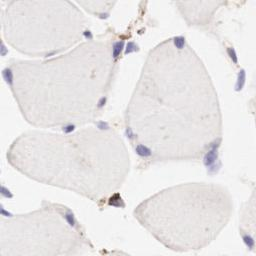nucleus: (202, 150, 220, 166), (235, 68, 245, 91), (124, 41, 139, 55), (135, 144, 152, 156), (206, 162, 223, 174), (113, 41, 125, 57), (173, 36, 186, 50), (2, 69, 14, 84), (227, 48, 238, 63), (1, 38, 10, 56), (1, 203, 12, 217), (244, 235, 254, 250), (43, 49, 64, 56), (1, 187, 13, 198), (126, 125, 134, 140), (110, 201, 126, 208), (97, 97, 108, 107), (65, 123, 75, 133), (83, 31, 94, 40), (66, 214, 74, 226), (95, 121, 108, 128), (100, 13, 111, 19)
positive_cell: (113, 32, 126, 58), (109, 194, 127, 210)
